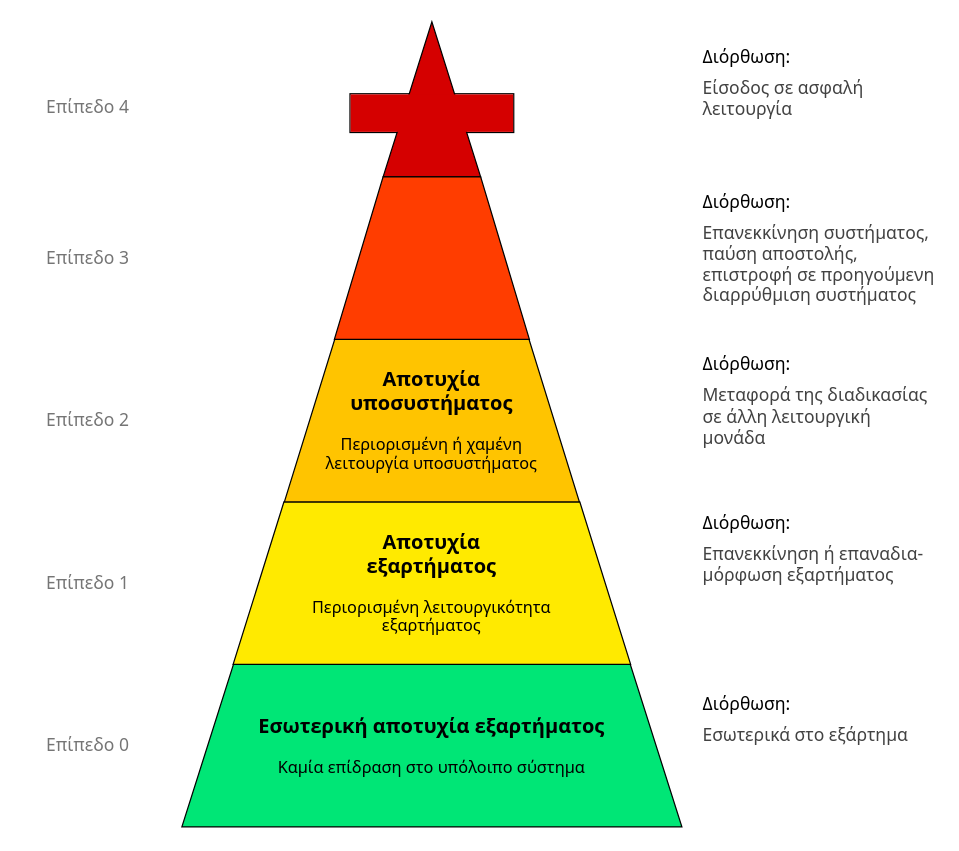
The diagram is 959 pixels wide and 851 high, and some of its shapes have lost their labels. The shapes that lost their labels are listed below. From the top down, each one's box as (x1, y1, x2, y2) in pixels, then its label:
(350, 94, 512, 131): Μη-ανακάμψιμη αποτυχία
(333, 176, 529, 339): Κεντρική αποτυχία Περιορισμένη ή αποτυχημένη αποστολή
